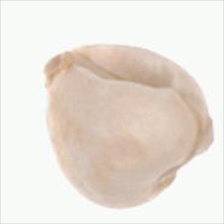L3: (42, 48, 87, 89)
L4: (42, 45, 216, 211)
